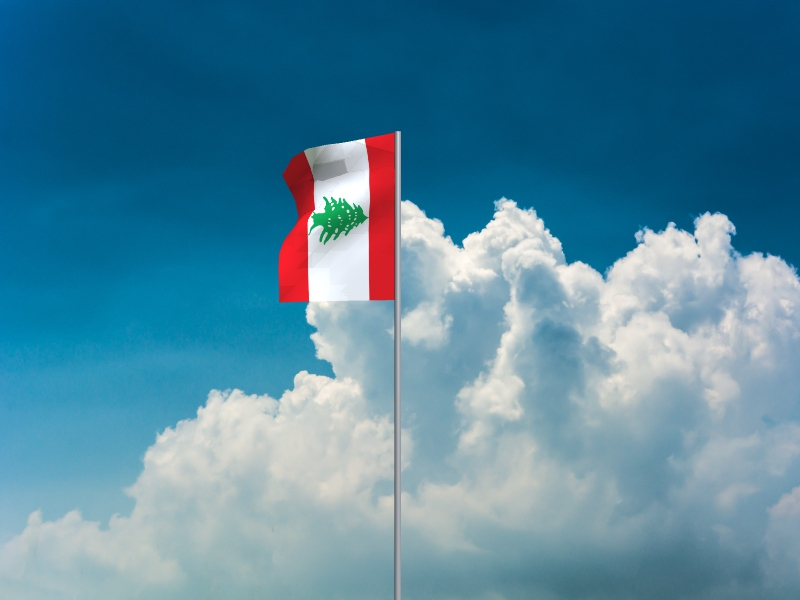lb: (278, 134, 395, 303)
